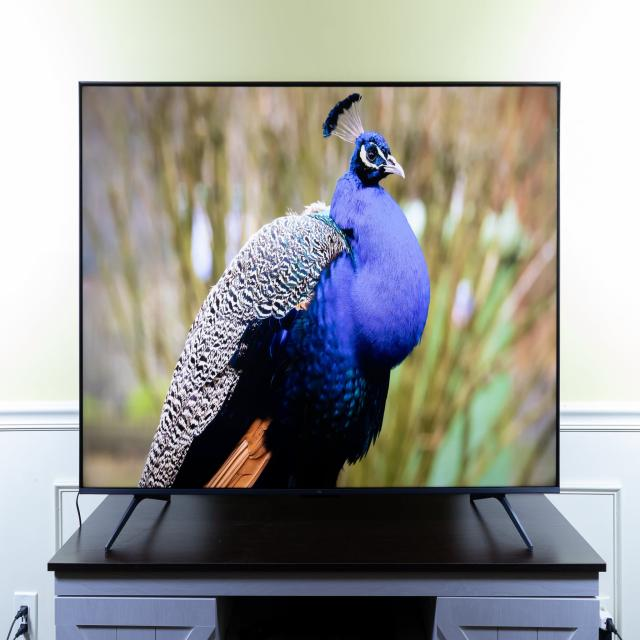electronics: (81, 84, 559, 494), (230, 596, 422, 640), (14, 591, 37, 640), (7, 606, 30, 640), (598, 605, 619, 640), (599, 605, 612, 631), (608, 631, 610, 633), (16, 593, 17, 595), (10, 634, 10, 634), (423, 634, 423, 634)
